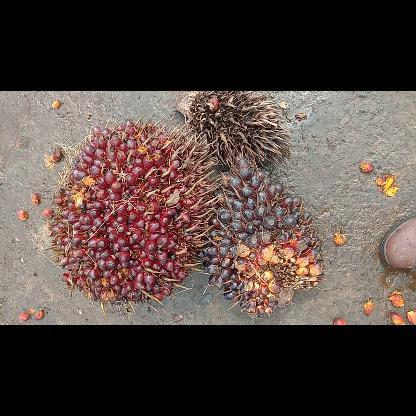Janjang kosong: (174, 91, 294, 171)
TBS masak: (44, 113, 221, 313)
TBS mentah: (196, 158, 324, 316)
